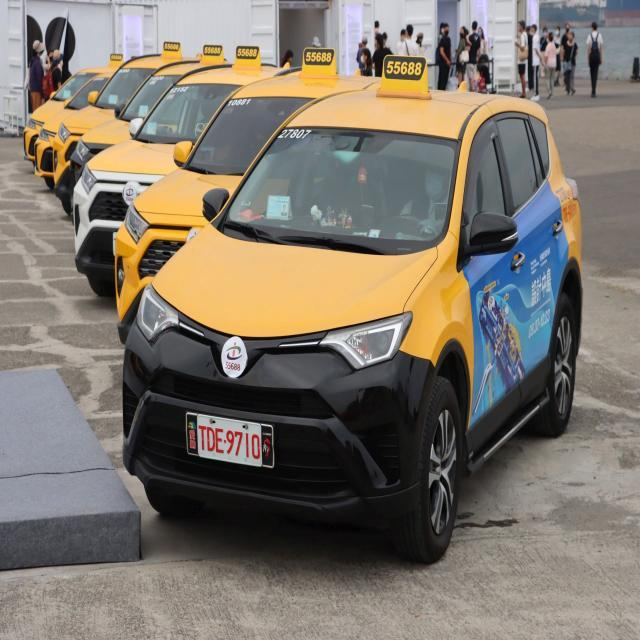Door: (115, 75, 351, 343), (72, 47, 279, 292)
Taxi: (122, 58, 582, 562)
